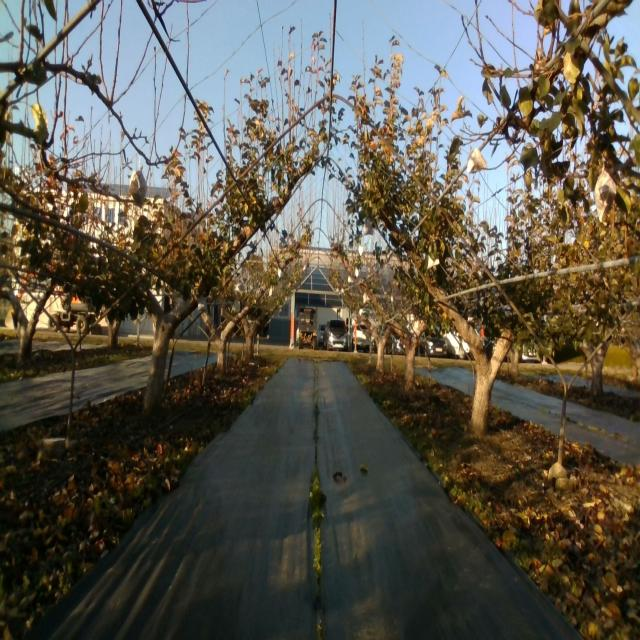pearbags: (594, 162, 616, 223), (129, 163, 148, 206), (467, 146, 487, 172), (364, 218, 374, 235)
